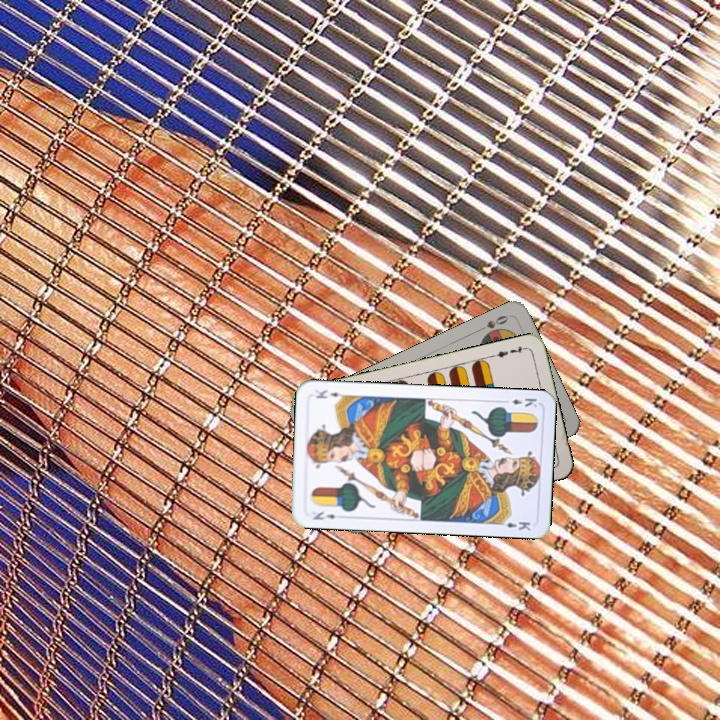E7: (489, 342, 529, 360)
EK: (499, 394, 539, 410), (309, 507, 338, 523)
SO: (474, 311, 513, 334)
